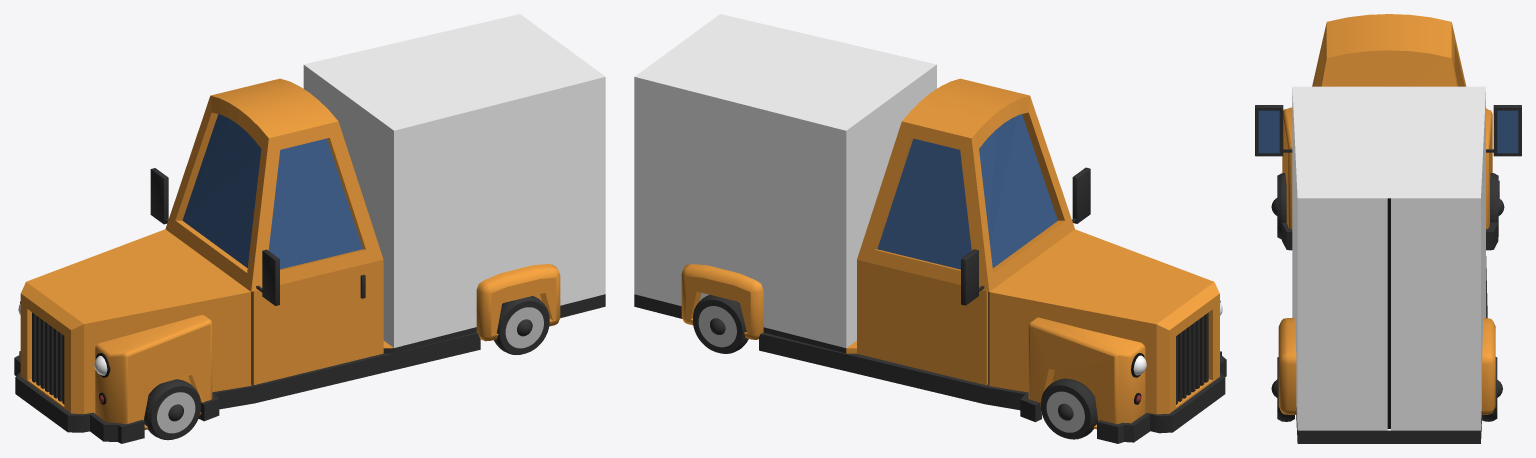
The model's file is FoodTruckSmall.fbx.
3 renders of one model, left to right at view 1: azimuth 30°, elevation 25°; view 2: azimuth 150°, elevation 25°; view 3: azimuth 270°, elevation 25°, orthographic. The views are drawn at different scales.
Visible parts, largest first — view 1: Truck_1359.001; view 2: Truck_1359.001; view 3: Truck_1359.001.
Boxes of the visible parts, box(x1,y1,x2,y2) form: Truck_1359.001: box(14, 14, 605, 443); Truck_1359.001: box(634, 14, 1226, 443); Truck_1359.001: box(1255, 14, 1521, 443).
Bounding box in the file's own units: 8169 × 3969 × 3387.
